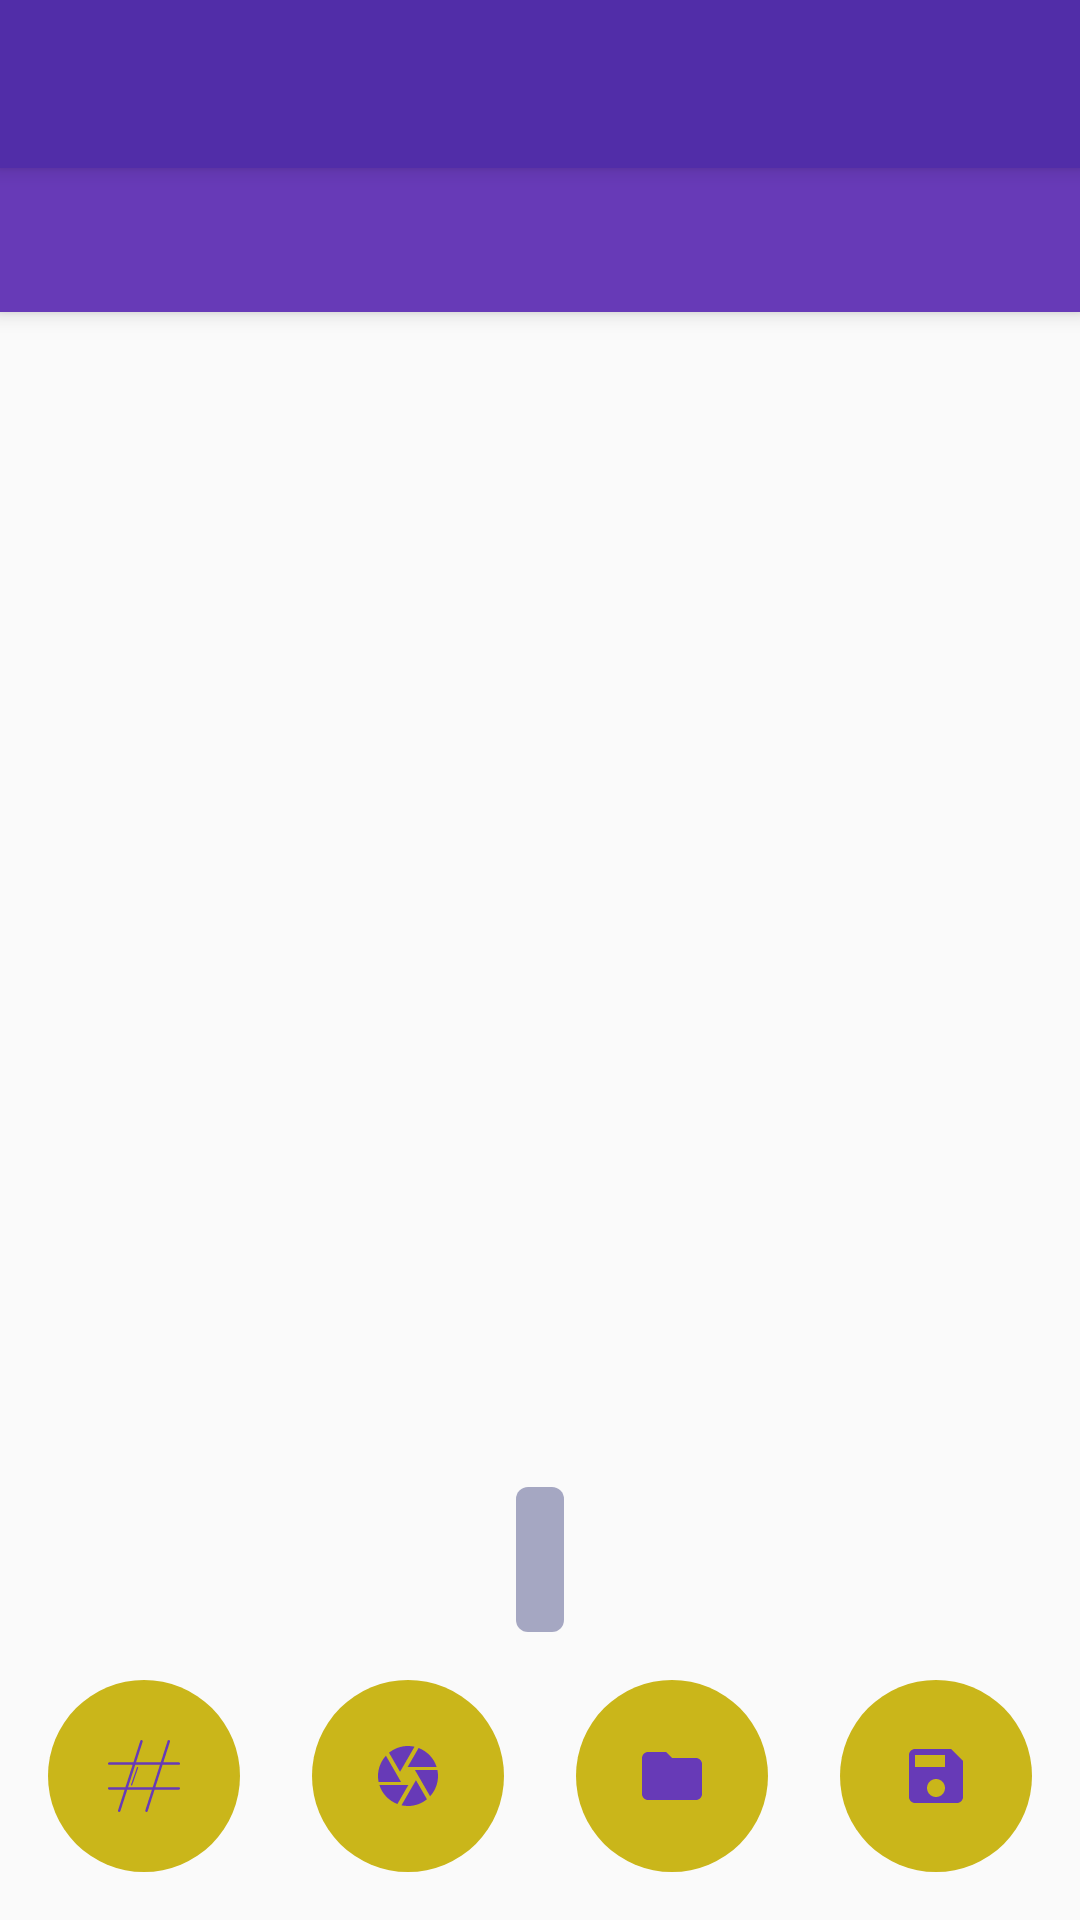

Icon click points for this 1080w x 1920h phone screenshot, format [x,y]:
camera: [408,1776]
directory: [672,1776]
pound sign: [144,1776]
save: [936,1776]
